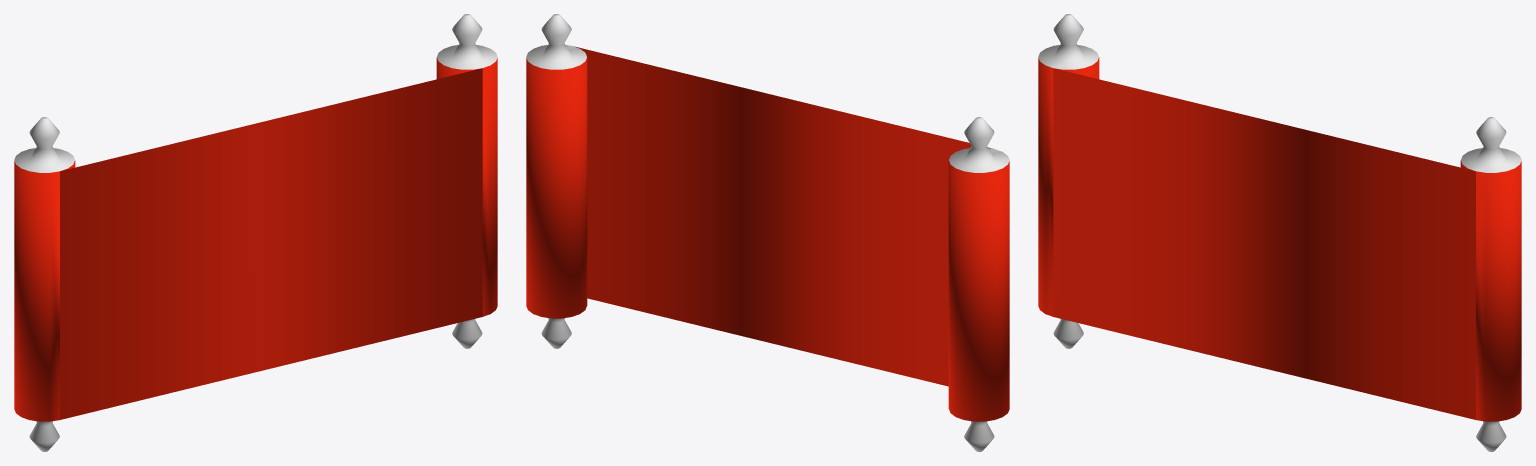
The model's file is scrollNew.fbx.
3 views of the same model, side by side, from view 1: azimuth 30°, elevation 25°; view 2: azimuth 150°, elevation 25°; view 3: azimuth 330°, elevation 25° (orthographic).
Visible parts, largest first — view 1: Cylinder; view 2: Cylinder; view 3: Cylinder.
Boxes of the visible parts, x1,y1,x2,y2 form: Cylinder: [14, 14, 497, 451]; Cylinder: [526, 14, 1009, 451]; Cylinder: [1038, 14, 1521, 451].
Size of the model in its own units: 1797 by 1200 by 200.
